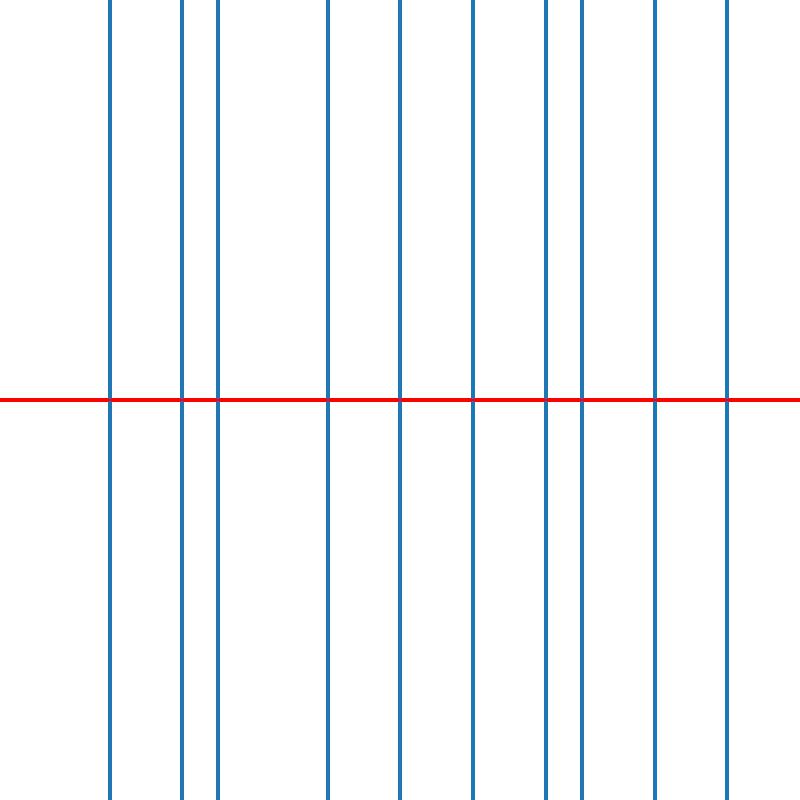root: (541, 396, 549, 404), (650, 396, 658, 404), (178, 396, 185, 404), (578, 396, 585, 404), (723, 396, 730, 404), (396, 396, 403, 404), (214, 396, 221, 404), (323, 396, 330, 404), (469, 396, 476, 404), (105, 396, 112, 404)
